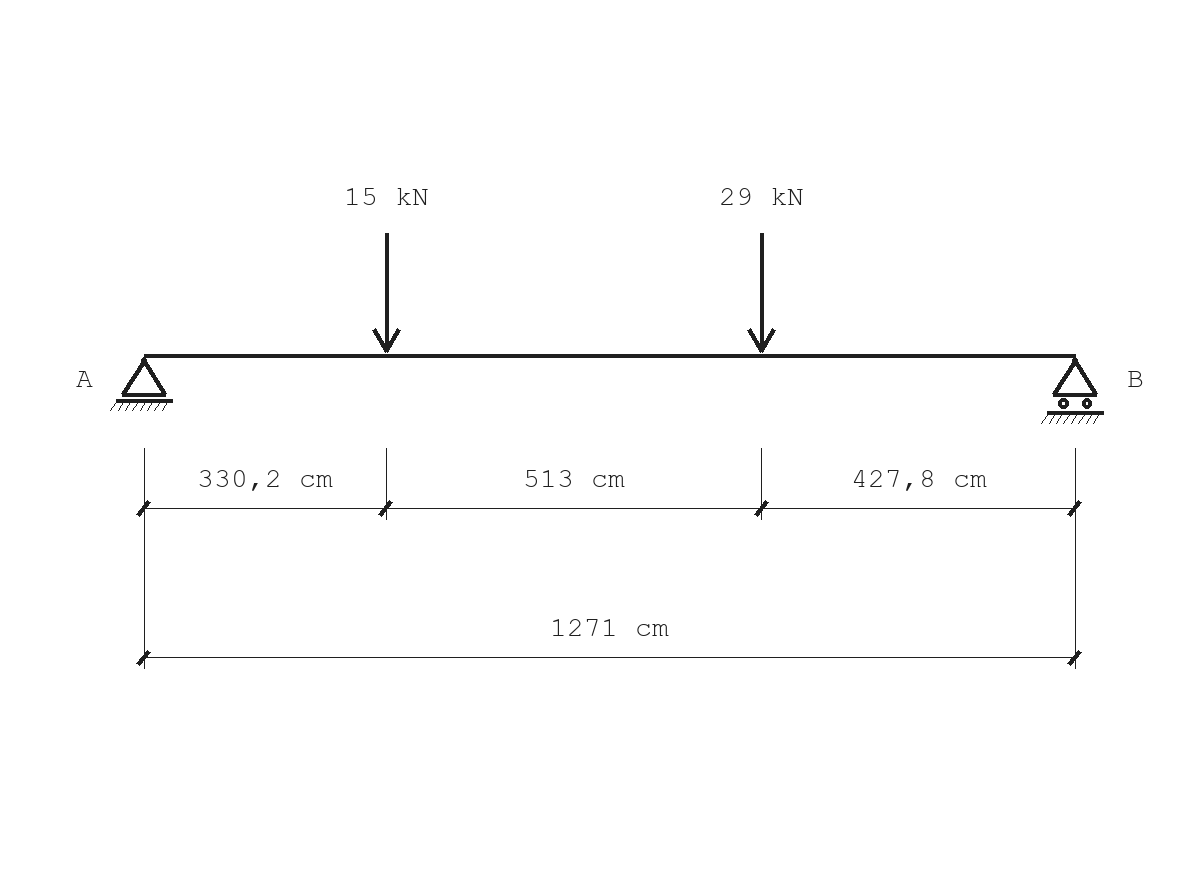pin_support: (110, 357, 173, 411)
point_load: (372, 233, 401, 353), (747, 233, 776, 353)
roller_support: (1041, 357, 1104, 424)
